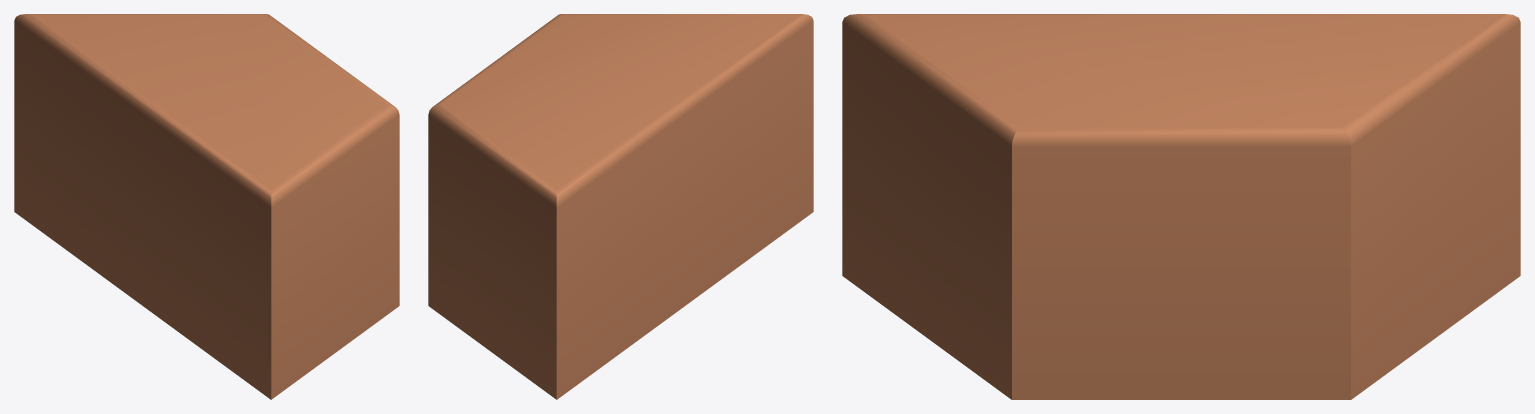
Rendered from hex_rock_waterB_empty.glb.
3 views of the same model, side by side, from view 1: azimuth 30°, elevation 25°; view 2: azimuth 150°, elevation 25°; view 3: azimuth 270°, elevation 25° (orthographic). The views are drawn at different scales.
Parts seen in each view (by area): view 1: hex_rock_waterB_empty; view 2: hex_rock_waterB_empty; view 3: hex_rock_waterB_empty.
Part boxes in pixels (left/top/right/bottom): hex_rock_waterB_empty: left=14, top=14, right=399, bottom=399; hex_rock_waterB_empty: left=428, top=14, right=813, bottom=399; hex_rock_waterB_empty: left=842, top=14, right=1520, bottom=399.
Size of the model in its own units: 1 by 1 by 2.31.
